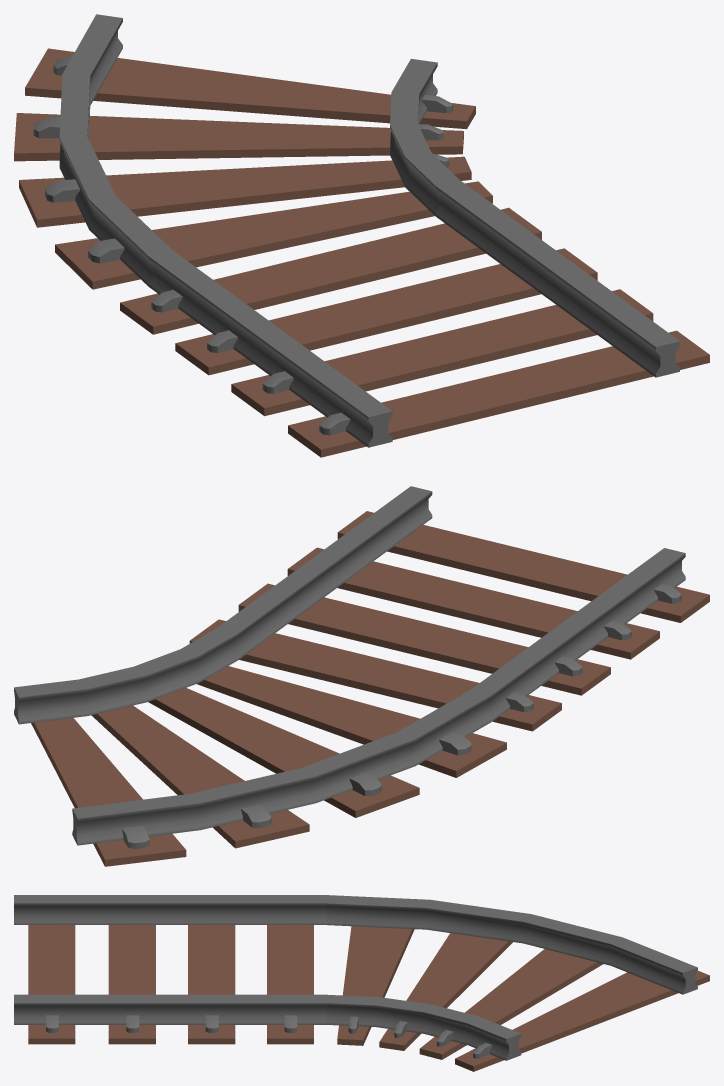
Rendered from Trilho_reto_curvo.fbx.
The picture shows the model from 3 angles, top to bottom: view 1: azimuth 30°, elevation 25°; view 2: azimuth 150°, elevation 25°; view 3: azimuth 270°, elevation 25°; orthographic projection. The views are drawn at different scales.
Visible parts, largest first — view 1: Trilho_reto_curva; view 2: Trilho_reto_curva; view 3: Trilho_reto_curva.
Part boxes in pixels (left/top/right/bottom): Trilho_reto_curva: left=14, top=14, right=709, bottom=457; Trilho_reto_curva: left=14, top=486, right=709, bottom=866; Trilho_reto_curva: left=14, top=895, right=709, bottom=1071.
Size of the model in its own units: 244 by 19.27 by 443.
